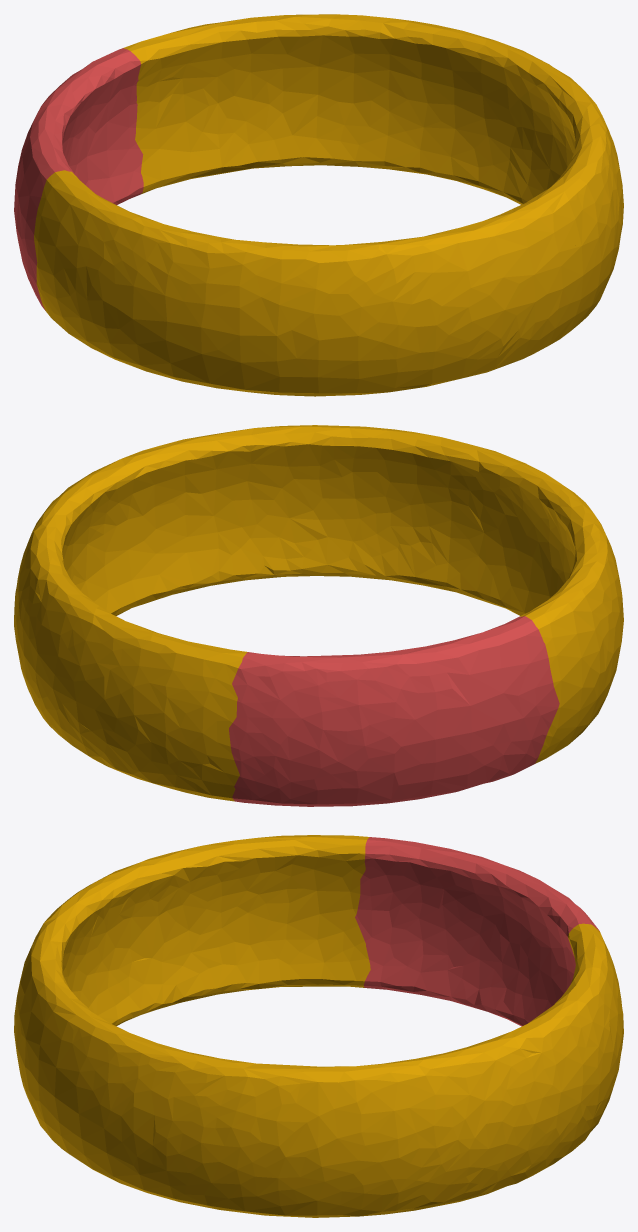
File: fractured_24_2pcs.glb
The picture shows the model from 3 angles, top to bottom: view 1: azimuth 30°, elevation 25°; view 2: azimuth 150°, elevation 25°; view 3: azimuth 270°, elevation 25°; orthographic projection.
Parts seen in each view (by area): view 1: piece_0.obj, piece_1.obj; view 2: piece_0.obj, piece_1.obj; view 3: piece_0.obj, piece_1.obj.
Boxes of the visible parts, x1=… form: piece_0.obj: x1=34, y1=14, x2=623, y2=396; piece_1.obj: x1=14, y1=48, x2=143, y2=310; piece_0.obj: x1=14, y1=425, x2=623, y2=801; piece_1.obj: x1=229, y1=616, x2=559, y2=806; piece_0.obj: x1=14, y1=835, x2=623, y2=1217; piece_1.obj: x1=355, y1=837, x2=599, y2=1026.
Size of the model in its own units: 1 by 0.267 by 0.9974.
